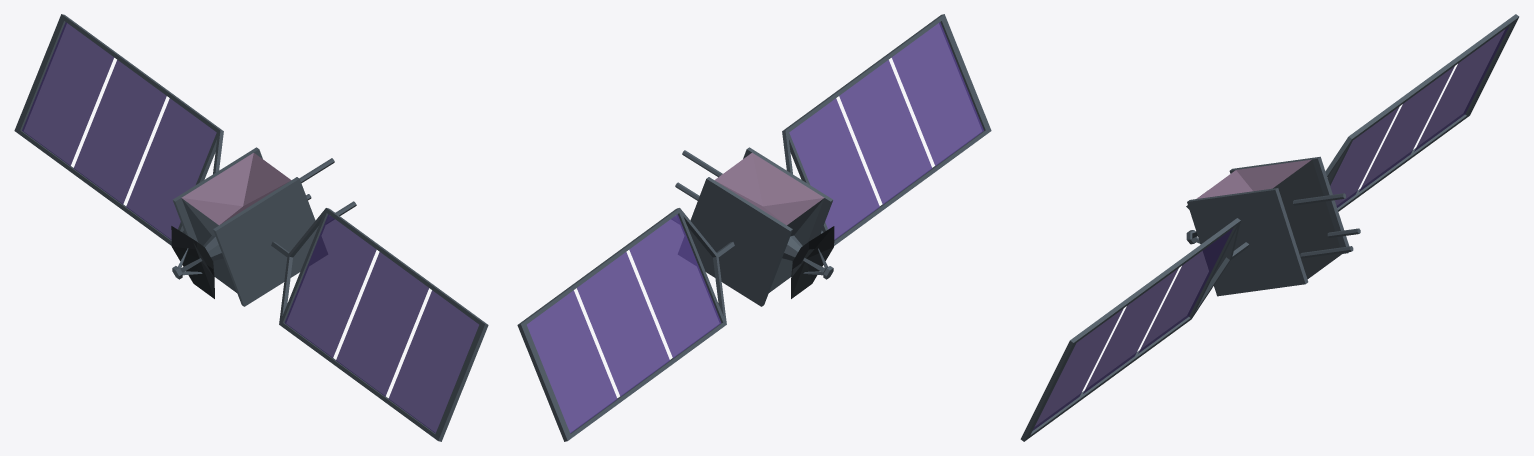
Rendered from Sat-CN-Yaogan.glb.
3 views of the same model, side by side, from view 1: azimuth 30°, elevation 25°; view 2: azimuth 150°, elevation 25°; view 3: azimuth 330°, elevation 25° (orthographic). The views are drawn at different scales.
Bounding box in the file's own units: 26.38 × 17.13 × 115.
